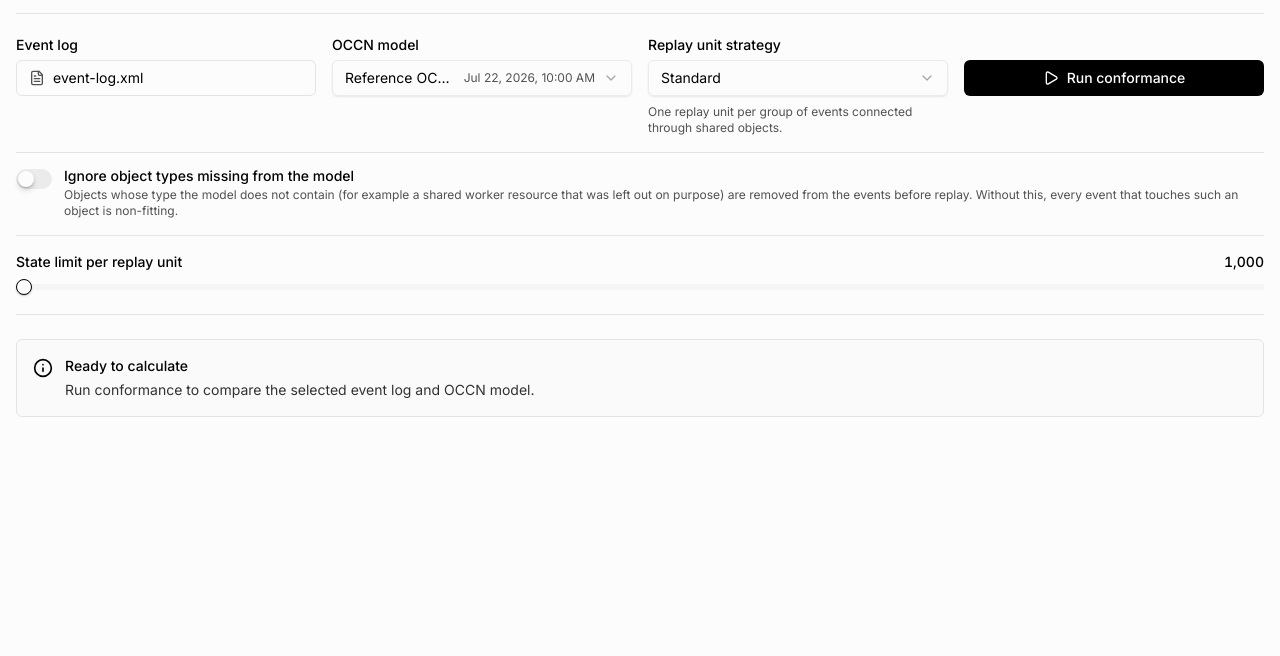
Test: OCCN conformance workflow integration › shows a known failure in the loaded replay-unit detail
Expected: the text "Ready to calculate" is shown, [65, 357, 188, 374]
Click the button "Run conformance". click: (1114, 78)
box: [964, 60, 1264, 96]
(page scrolled)
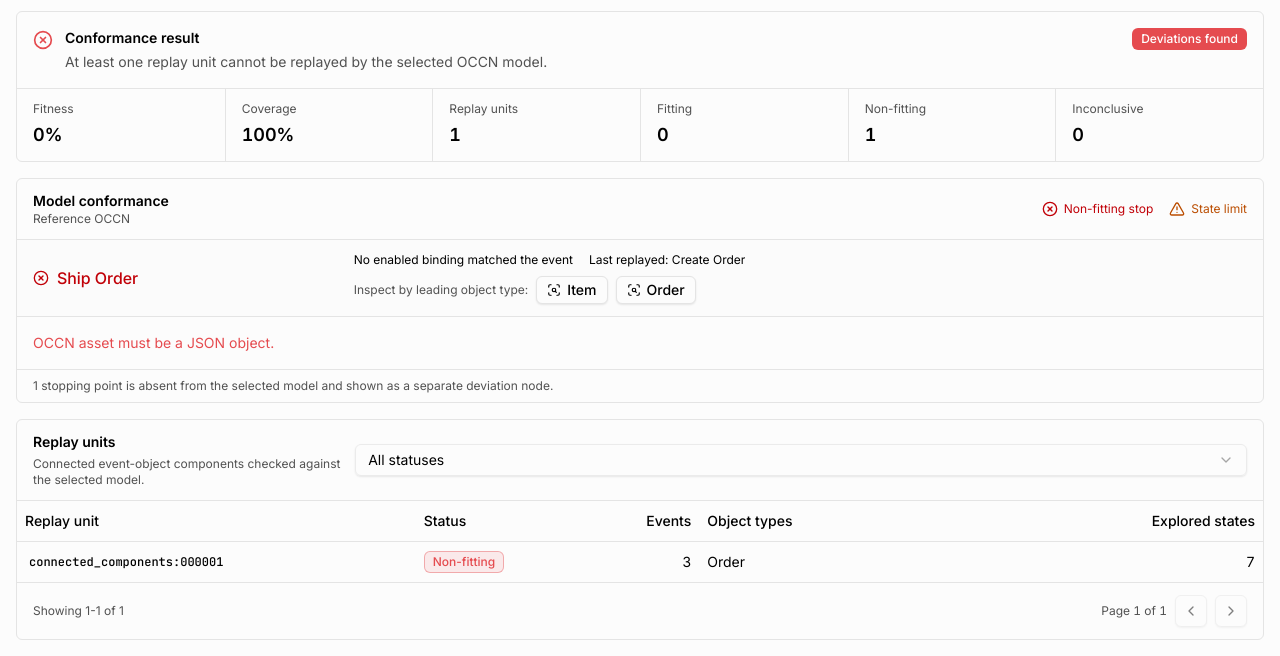
Expected: the text "Deviations found" is shown, [1132, 28, 1247, 50]
Click the button "connected_components:000001". click: (126, 562)
box: [25, 550, 227, 574]
(page scrolled)
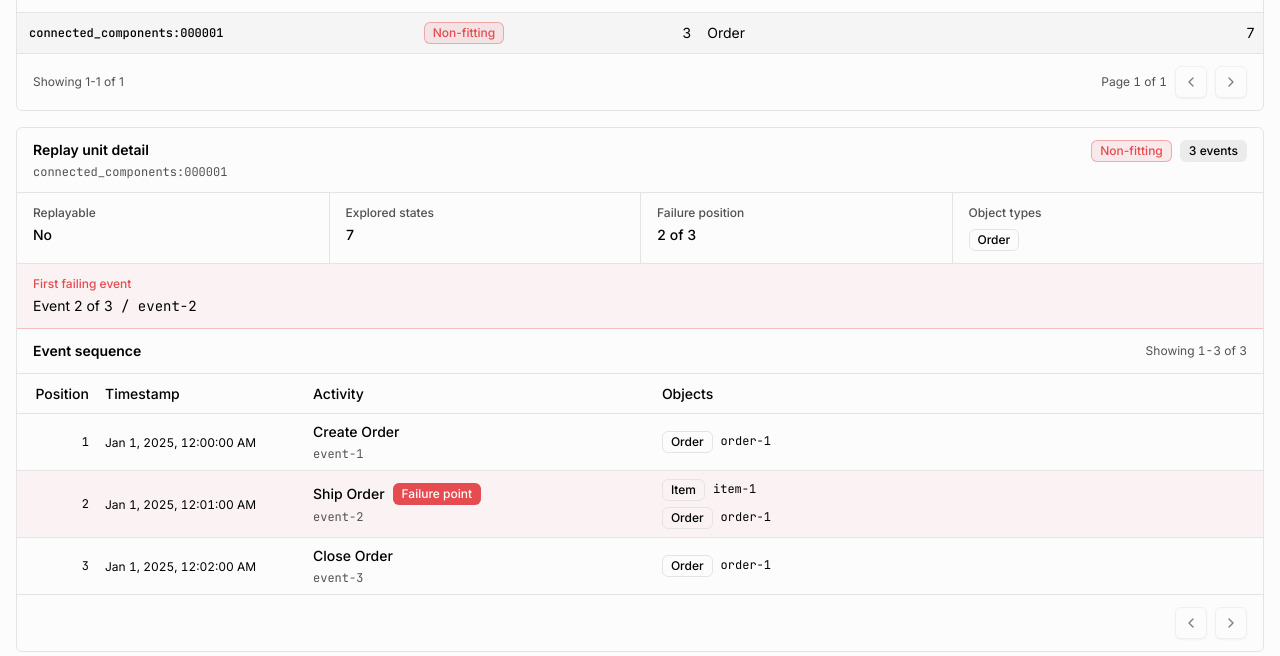
Expected: the text "Failure point" is shown, [393, 483, 481, 505]
